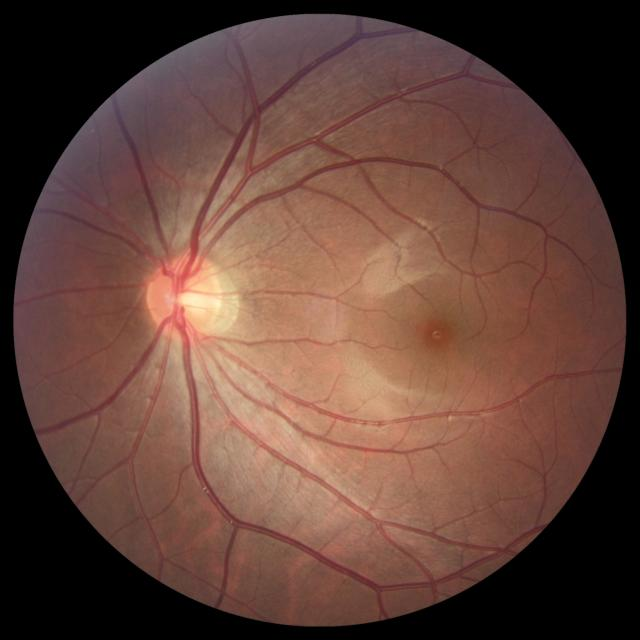OC: (165, 279, 204, 317)
OD: (146, 254, 224, 338)
